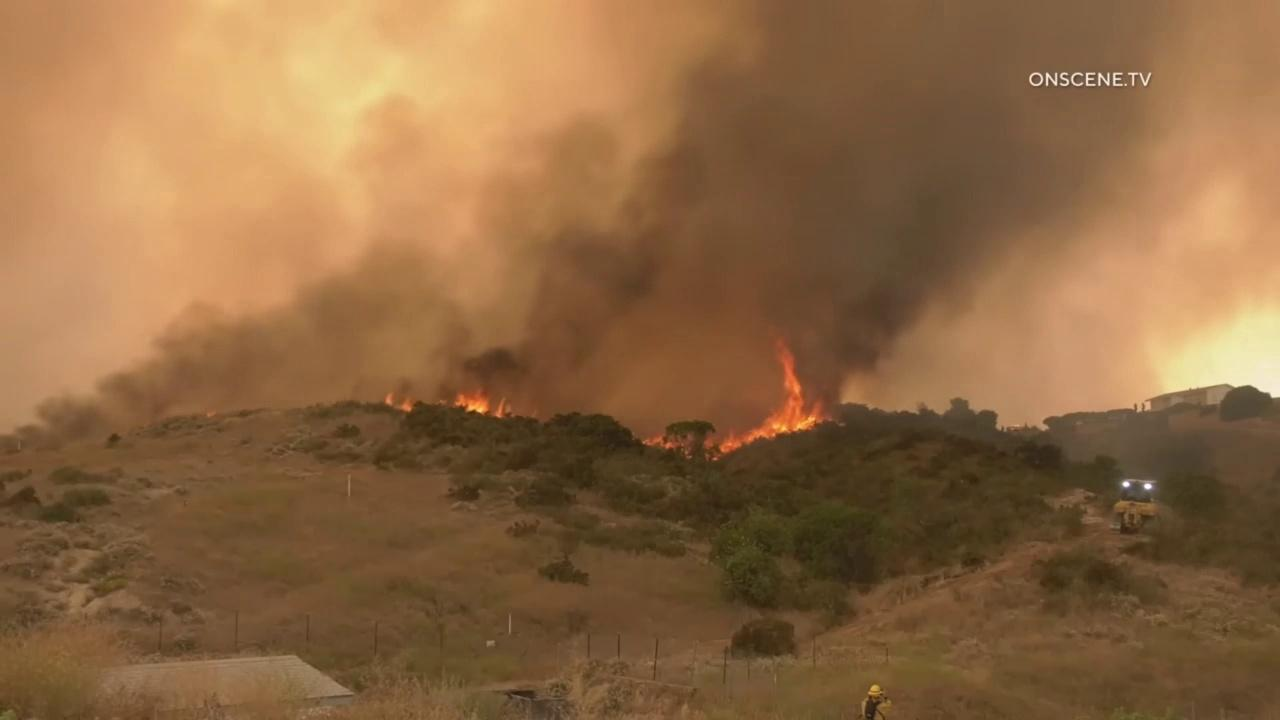fire: (703, 338, 833, 462), (452, 385, 489, 417), (642, 434, 682, 454), (384, 392, 413, 412), (492, 396, 507, 418), (205, 409, 217, 418)
smoke: (0, 0, 1280, 471)
